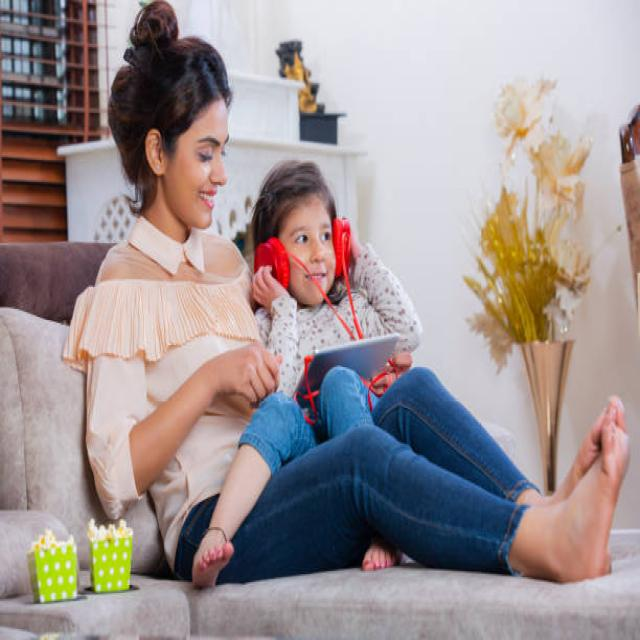Headphone: (254, 217, 352, 294)
